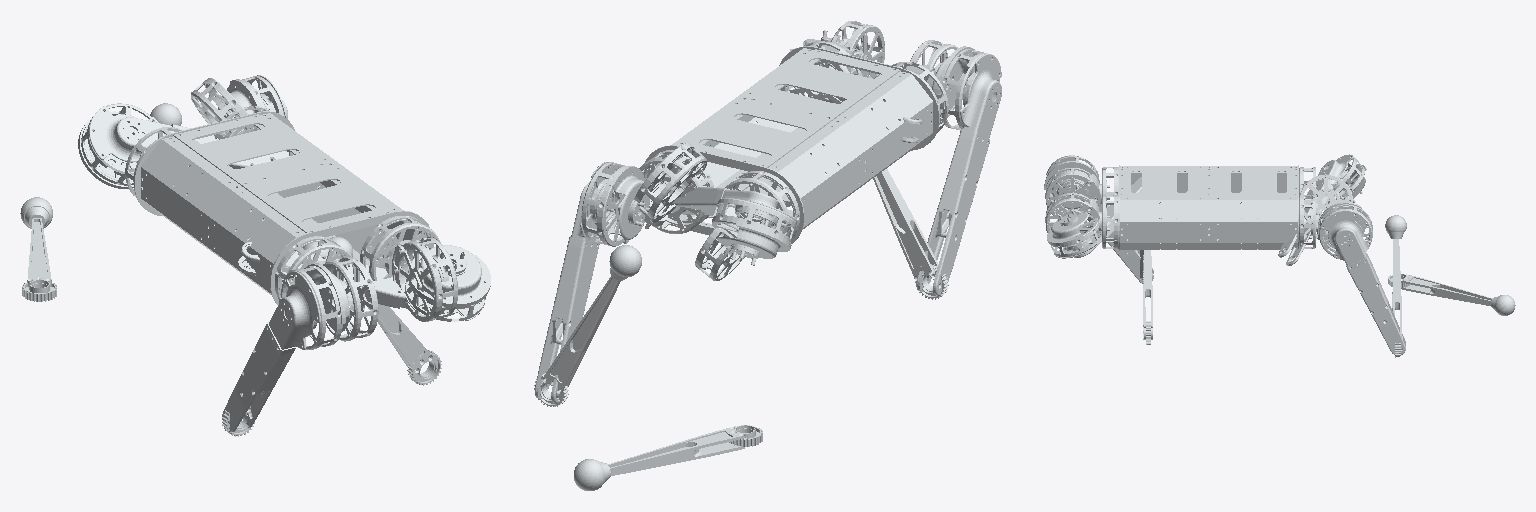
The robot description file, URDF, robot "cheetah":
<robot
  name="cheetah">
  <gazebo>
    <plugin name="gazebo_ros_control" filename="libgazebo_ros_control.so">
      <robotNamespace>/cheetah</robotNamespace>
	  <robotSimType>gazebo_ros_control/DefaultRobotHWSim</robotSimType>
    </plugin>
  </gazebo>

  <gazebo reference="BODY">
    <gravity>true</gravity>
    <sensor name="imu_sensor" type="imu">
      <always_on>true</always_on>
      <update_rate>100</update_rate>
      <visualize>true</visualize>
      <topic>__default_topic__</topic>
      <plugin filename="libgazebo_ros_imu_sensor.so" name="imu_plugin">
        <topicName>imu</topicName>
        <bodyName>imu_link</bodyName>
        <updateRateHZ>10.0</updateRateHZ>
        <gaussianNoise>0.0</gaussianNoise>
        <xyzOffset>0 0 0</xyzOffset>
        <rpyOffset>0 0 0</rpyOffset>
        <frameName>imu_link</frameName>
      </plugin>
      <pose>0 0 0 0 0 0</pose>
    </sensor>
  </gazebo>

  <!-- add transmission -->
  <transmission name="LF_tran1">
    <type>transmission_interface/SimpleTransmission</type>
    <joint name="LF_JOINT1">
      <hardwareInterface>EffortJointInterface</hardwareInterface>
    </joint>
    <actuator name="LF_motor1">
      <hardwareInterface>EffortJointInterface</hardwareInterface>
      <mechanicalReduction>1</mechanicalReduction>
    </actuator>
  </transmission>
  <transmission name="LF_tran2">
    <type>transmission_interface/SimpleTransmission</type>
    <joint name="LF_JOINT2">
      <hardwareInterface>EffortJointInterface</hardwareInterface>
    </joint>
    <actuator name="LF_motor2">
      <hardwareInterface>EffortJointInterface</hardwareInterface>
      <mechanicalReduction>1</mechanicalReduction>
    </actuator>
  </transmission>
  <transmission name="LF_tran3">
    <type>transmission_interface/SimpleTransmission</type>
    <joint name="LF_JOINT3">
      <hardwareInterface>EffortJointInterface</hardwareInterface>
    </joint>
    <actuator name="LF_motor3">
      <hardwareInterface>EffortJointInterface</hardwareInterface>
      <mechanicalReduction>1</mechanicalReduction>
    </actuator>
  </transmission>
  <transmission name="RF_tran1">
    <type>transmission_interface/SimpleTransmission</type>
    <joint name="RF_JOINT1">
      <hardwareInterface>EffortJointInterface</hardwareInterface>
    </joint>
    <actuator name="RF_motor1">
      <hardwareInterface>EffortJointInterface</hardwareInterface>
      <mechanicalReduction>1</mechanicalReduction>
    </actuator>
  </transmission>
  <transmission name="RF_tran2">
    <type>transmission_interface/SimpleTransmission</type>
    <joint name="RF_JOINT2">
      <hardwareInterface>EffortJointInterface</hardwareInterface>
    </joint>
    <actuator name="RF_motor2">
      <hardwareInterface>EffortJointInterface</hardwareInterface>
      <mechanicalReduction>1</mechanicalReduction>
    </actuator>
  </transmission>
  <transmission name="RF_tran3">
    <type>transmission_interface/SimpleTransmission</type>
    <joint name="RF_JOINT3">
      <hardwareInterface>EffortJointInterface</hardwareInterface>
    </joint>
    <actuator name="RF_motor3">
      <hardwareInterface>EffortJointInterface</hardwareInterface>
      <mechanicalReduction>1</mechanicalReduction>
    </actuator>
  </transmission>
  <transmission name="LB_tran1">
    <type>transmission_interface/SimpleTransmission</type>
    <joint name="LB_JOINT1">
      <hardwareInterface>EffortJointInterface</hardwareInterface>
    </joint>
    <actuator name="LB_motor1">
      <hardwareInterface>EffortJointInterface</hardwareInterface>
      <mechanicalReduction>1</mechanicalReduction>
    </actuator>
  </transmission>
  <transmission name="LB_tran2">
    <type>transmission_interface/SimpleTransmission</type>
    <joint name="LB_JOINT2">
      <hardwareInterface>EffortJointInterface</hardwareInterface>
    </joint>
    <actuator name="LB_motor2">
      <hardwareInterface>EffortJointInterface</hardwareInterface>
      <mechanicalReduction>1</mechanicalReduction>
    </actuator>
  </transmission>
  <transmission name="LB_tran3">
    <type>transmission_interface/SimpleTransmission</type>
    <joint name="LB_JOINT3">
      <hardwareInterface>EffortJointInterface</hardwareInterface>
    </joint>
    <actuator name="LB_motor3">
      <hardwareInterface>EffortJointInterface</hardwareInterface>
      <mechanicalReduction>1</mechanicalReduction>
    </actuator>
  </transmission>
  <transmission name="RB_tran1">
    <type>transmission_interface/SimpleTransmission</type>
    <joint name="RB_JOINT1">
      <hardwareInterface>EffortJointInterface</hardwareInterface>
    </joint>
    <actuator name="RB_motor1">
      <hardwareInterface>EffortJointInterface</hardwareInterface>
      <mechanicalReduction>1</mechanicalReduction>
    </actuator>
  </transmission>
  <transmission name="RB_tran2">
    <type>transmission_interface/SimpleTransmission</type>
    <joint name="RB_JOINT2">
      <hardwareInterface>EffortJointInterface</hardwareInterface>
    </joint>
    <actuator name="RB_motor2">
      <hardwareInterface>EffortJointInterface</hardwareInterface>
      <mechanicalReduction>1</mechanicalReduction>
    </actuator>
  </transmission>
  <transmission name="RB_tran3">
    <type>transmission_interface/SimpleTransmission</type>
    <joint name="RB_JOINT3">
      <hardwareInterface>EffortJointInterface</hardwareInterface>
    </joint>
    <actuator name="RB_motor3">
      <hardwareInterface>EffortJointInterface</hardwareInterface>
      <mechanicalReduction>1</mechanicalReduction>
    </actuator>
  </transmission>


  <!-- Set link color -->
  <gazebo reference="BODY"> 
	<material>Gazebo/Orange</material>
  </gazebo>

  <!-- fix body with the world -->
  <!-- link name="world"/ -->
  <!-- joint name="fixed" type="fixed" -->
    <!-- parent link="world"/ -->
	<!-- child link="BODY"/ -->
  <!-- /joint -->


  <link
    name="BODY">
    <inertial>
      <origin
        xyz="0.113593903662276 -0.21706648647554 0.0725525782796028"
        rpy="0 0 0" />
      <mass
        value="1.31844704893266" />
      <inertia
        ixx="0.0176138845473112"
        ixy="1.32278411694406E-06"
        ixz="-5.48867968021378E-08"
        iyy="0.00541232504527596"
        iyz="1.48504478644983E-07"
        izz="0.0216123068810961" />
    </inertial>
    <visual>
      <origin
        xyz="0 0 0"
        rpy="0 0 0" />
      <geometry>
        <mesh
          filename="package://cheetah_description/meshes/BODY.STL" />
      </geometry>
      <material
        name="">
        <color
          rgba="0.898039215686275 0.917647058823529 0.929411764705882 1" />
      </material>
    </visual>
    <collision>
      <origin
        xyz="0 0 0"
        rpy="0 0 0" />
      <geometry>
        <mesh
          filename="package://cheetah_description/meshes/BODY.STL" />
      </geometry>
    </collision>
  </link>
  <link
    name="LF1">
    <inertial>
      <origin
        xyz="-0.00356028712794883 -0.00217495542641513 0.0533371336391992"
        rpy="0 0 0" />
      <mass
        value="0.12874452405232" />
      <inertia
        ixx="7.54178206100528E-05"
        ixy="-3.17300014948878E-06"
        ixz="2.10628877219479E-06"
        iyy="7.9279259142516E-05"
        iyz="1.48482617363543E-06"
        izz="7.43038486907753E-06" />
    </inertial>
    <visual>
      <origin
        xyz="0 0 0"
        rpy="0 0 0" />
      <geometry>
        <mesh
          filename="package://cheetah_description/meshes/LF1.STL" />
      </geometry>
      <material
        name="">
        <color
          rgba="0.898039215686275 0.917647058823529 0.929411764705882 1" />
      </material>
    </visual>
    <collision>
      <origin
        xyz="0 0 0"
        rpy="0 0 0" />
      <geometry>
        <mesh
          filename="package://cheetah_description/meshes/LF1.STL" />
      </geometry>
    </collision>
  </link>
  <joint
    name="LF_JOINT1"
    type="continuous">
    <origin
      xyz="0.173599224631532 -0.399354557389219 0.0725529089199334"
      rpy="1.5707963267949 0.511092050822873 -3.43375535468868E-17" />
    <parent
      link="BODY" />
    <child
      link="LF1" />
    <axis
      xyz="0 0 1" />
	<dynamics
	  friction="0.001" />
  </joint>
  <link
    name="LF2">
    <inertial>
      <origin
        xyz="-0.0474435815037099 -0.0113664649099384 0.0257671435187357"
        rpy="0 0 0" />
      <mass
        value="0.323696832719431" />
      <inertia
        ixx="0.000279146456453759"
        ixy="-0.000417139675857478"
        ixz="0.000305968543038374"
        iyy="0.0016275350403163"
        iyz="9.65659599027155E-05"
        izz="0.00159115336884766" />
    </inertial>
    <visual>
      <origin
        xyz="0 0 0"
        rpy="0 0 0" />
      <geometry>
        <mesh
          filename="package://cheetah_description/meshes/LF2.STL" />
      </geometry>
      <material
        name="">
        <color
          rgba="0.898039215686275 0.917647058823529 0.929411764705882 1" />
      </material>
    </visual>
    <collision>
      <origin
        xyz="0 0 0"
        rpy="0 0 0" />
      <geometry>
        <mesh
          filename="package://cheetah_description/meshes/LF2.STL" />
      </geometry>
    </collision>
  </link>
  <joint
    name="LF_JOINT2"
    type="continuous">
    <origin
      xyz="0.0239889006854609 0.0138500051937306 0.0707119290859076"
      rpy="1.5707963267949 -0.368671500214442 2.09439511787625" />
    <parent
      link="LF1" />
    <child
      link="LF2" />
    <axis
      xyz="0 0 0.99999999999998" />
	<dynamics
	  friction="0.001" />
  </joint>
  <link
    name="LF3">
    <inertial>
      <origin
        xyz="-0.127788265270613 -0.084239074728452 0.00126936250587434"
        rpy="0 0 0" />
      <mass
        value="0.114240540212022" />
      <inertia
        ixx="0.0142610539008411"
        ixy="-0.0216328338393764"
        ixz="9.81796741797441E-04"
        iyy="0.0328161817304789"
        iyz="6.47218969946877E-04"
        izz="0.0470766478340095" />
    </inertial>
    <visual>
      <origin
        xyz="0 0 0"
        rpy="0 0 0" />
      <geometry>
        <mesh
          filename="package://cheetah_description/meshes/LF3.STL" />
      </geometry>
      <material
        name="">
        <color
          rgba="0.898039215686275 0.917647058823529 0.929411764705882 1" />
      </material>
    </visual>
    <collision>
      <origin
        xyz="0 0 0"
        rpy="0 0 0" />
      <geometry>
        <mesh
          filename="package://cheetah_description/meshes/LF3.STL" />
      </geometry>
    </collision>
  </link>
  <joint
    name="LF_JOINT3"
    type="continuous">
    <origin
      xyz="-0.231822995878655 -0.0621135670258962 0.0433804774370614"
      rpy="-2.01086507658697E-07 5.47983968079473E-15 -1.93946782700934" />
    <parent
      link="LF2" />
    <child
      link="LF3" />
    <axis
      xyz="0 0 1" />
	<dynamics
	  friction="0.001" />
  </joint>
  <link
    name="RF1">
    <inertial>
      <origin
        xyz="-0.00356028729085346 -0.00217495629764326 0.0533371334801993"
        rpy="0 0 0" />
      <mass
        value="0.128744523661006" />
      <inertia
        ixx="7.54178194302585E-05"
        ixy="-3.17300035849866E-06"
        ixz="2.10628767188094E-06"
        iyy="7.92792605435836E-05"
        iyz="1.48482763237274E-06"
        izz="7.43038659891306E-06" />
    </inertial>
    <visual>
      <origin
        xyz="0 0 0"
        rpy="0 0 0" />
      <geometry>
        <mesh
          filename="package://cheetah_description/meshes/RF1.STL" />
      </geometry>
      <material
        name="">
        <color
          rgba="0.898039215686275 0.917647058823529 0.929411764705882 1" />
      </material>
    </visual>
    <collision>
      <origin
        xyz="0 0 0"
        rpy="0 0 0" />
      <geometry>
        <mesh
          filename="package://cheetah_description/meshes/RF1.STL" />
      </geometry>
    </collision>
  </link>
  <joint
    name="RF_JOINT1"
    type="continuous">
    <origin
      xyz="0.053599224631532 -0.399354557389219 0.0725529089199333"
      rpy="-1.5707963267949 -0.523598601027881 3.14159265358979" />
    <parent
      link="BODY" />
    <child
      link="RF1" />
    <axis
      xyz="0 0 1" />
	<dynamics
	  friction="0.001" />
  </joint>
  <link
    name="RF2">
    <inertial>
      <origin
        xyz="-0.0522840104115751 -0.0125260995514515 0.027860305734437"
        rpy="0 0 0" />
      <mass
        value="0.293729852808938" />
      <inertia
        ixx="0.000260979254978939"
        ixy="-0.000399330587666675"
        ixz="0.000273825093346943"
        iyy="0.00153930249317469"
        iyz="8.88649351862152E-05"
        izz="0.0015125542107132" />
    </inertial>
    <visual>
      <origin
        xyz="0 0 0"
        rpy="0 0 0" />
      <geometry>
        <mesh
          filename="package://cheetah_description/meshes/RF2.STL" />
      </geometry>
      <material
        name="">
        <color
          rgba="0.898039215686275 0.917647058823529 0.929411764705882 1" />
      </material>
    </visual>
    <collision>
      <origin
        xyz="0 0 0"
        rpy="0 0 0" />
      <geometry>
        <mesh
          filename="package://cheetah_description/meshes/RF2.STL" />
      </geometry>
    </collision>
  </link>
  <joint
    name="RF_JOINT2"
    type="continuous">
    <origin
      xyz="0.0239889012320922 0.0138500042482511 0.070711929086322"
      rpy="-1.57079632679487 -0.863675085440379 -1.04719753259462" />
    <parent
      link="RF1" />
    <child
      link="RF2" />
    <axis
      xyz="0 0 0.99999999999992" />
	<dynamics
	  friction="0.001" />
  </joint>
  <link
    name="RF3">
    <inertial>
      <origin
        xyz="0.133209831194905 -0.0753738304493778 0.00121607159211032"
        rpy="0 0 0" />
      <mass
        value="0.114240539524017" />
      <inertia
        ixx="0.0114548942425245"
        ixy="0.0202000406565315"
        ixz="-6.59004020738382E-04"
        iyy="0.0356220997961491"
        iyz="3.73699652095502E-04"
        izz="0.0470767500679258" />
    </inertial>
    <visual>
      <origin
        xyz="0 0 0"
        rpy="0 0 0" />
      <geometry>
        <mesh
          filename="package://cheetah_description/meshes/RF3.STL" />
      </geometry>
      <material
        name="">
        <color
          rgba="0.898039215686275 0.917647058823529 0.929411764705882 1" />
      </material>
    </visual>
    <collision>
      <origin
        xyz="0 0 0"
        rpy="0 0 0" />
      <geometry>
        <mesh
          filename="package://cheetah_description/meshes/RF3.STL" />
      </geometry>
    </collision>
  </link>
  <joint
    name="RF_JOINT3"
    type="continuous">
    <origin
      xyz="-0.231823008442479 -0.0621135692653797 0.0433804071002776"
      rpy="1.58490470087489E-07 -4.8795080220757E-16 -0.707121241354518" />
    <parent
      link="RF2" />
    <child
      link="RF3" />
    <axis
      xyz="0 0 0.999999999999876" />
	<dynamics
	  friction="0.001" />
  </joint>
  <link
    name="LB1">
    <inertial>
      <origin
        xyz="-0.00356028601275479 -0.00217495602205527 0.0185587177088275"
        rpy="0 0 0" />
      <mass
        value="0.128744523484197" />
      <inertia
        ixx="7.54178142885515E-05"
        ixy="-3.1729967774514E-06"
        ixz="2.10628654669623E-06"
        iyy="7.92792604551504E-05"
        iyz="1.48483080512161E-06"
        izz="7.43038317528222E-06" />
    </inertial>
    <visual>
      <origin
        xyz="0 0 0"
        rpy="0 0 0" />
      <geometry>
        <mesh
          filename="package://cheetah_description/meshes/LB1.STL" />
      </geometry>
      <material
        name="">
        <color
          rgba="0.898039215686275 0.917647058823529 0.929411764705882 1" />
      </material>
    </visual>
    <collision>
      <origin
        xyz="0 0 0"
        rpy="0 0 0" />
      <geometry>
        <mesh
          filename="package://cheetah_description/meshes/LB1.STL" />
      </geometry>
    </collision>
  </link>
  <joint
    name="LB_JOINT1"
    type="continuous">
    <origin
      xyz="0.173599224631526 0 0.0725529089199335"
      rpy="-1.57079632679489 -0.550782542641248 3.7606585259785E-17" />
    <parent
      link="BODY" />
    <child
      link="LB1" />
    <axis
      xyz="0 0 -1" />
	<dynamics
	  friction="0.001" />
  </joint>
  <link
    name="LB2">
    <inertial>
      <origin
        xyz="0.0257671128855008 -0.0487200631973879 -0.00253746920973342"
        rpy="0 0 0" />
      <mass
        value="0.323696605007919" />
      <inertia
        ixx="0.00159115114168457"
        ixy="0.000318435725096246"
        ixz="3.92379224048623E-05"
        iyy="0.000174480345787558"
        iyz="-0.000148055424313775"
        izz="0.00173219827134064" />
    </inertial>
    <visual>
      <origin
        xyz="0 0 0"
        rpy="0 0 0" />
      <geometry>
        <mesh
          filename="package://cheetah_description/meshes/LB2.STL" />
      </geometry>
      <material
        name="">
        <color
          rgba="0.898039215686275 0.917647058823529 0.929411764705882 1" />
      </material>
    </visual>
    <collision>
      <origin
        xyz="0 0 0"
        rpy="0 0 0" />
      <geometry>
        <mesh
          filename="package://cheetah_description/meshes/LB2.STL" />
      </geometry>
    </collision>
  </link>
  <joint
    name="LB_JOINT2"
    type="continuous">
    <origin
      xyz="0.0239889055485236 0.0138499967714876 0.0359335135116864"
      rpy="-2.80449724784631 6.30450004185909E-15 0.523598766712586" />
    <parent
      link="LB1" />
    <child
      link="LB2" />
    <axis
      xyz="0.999999999999992 0 0" />
	<dynamics
	  friction="0.001" />
  </joint>
  <link
    name="LB3">
    <inertial>
      <origin
        xyz="-0.137259769893214 -0.0677187262851579 0.0012160706821924"
        rpy="0 0 0" />
      <mass
        value="0.114240539936642" />
      <inertia
        ixx="9.18073045158711E-02"
        ixy="-0.0186523391150409"
        ixz="6.7971742889103E-04"
        iyy="0.0378962763010066"
        iyz="3.34553918552012E-04"
        izz="0.0470767627800977" />
    </inertial>
    <visual>
      <origin
        xyz="0 0 0"
        rpy="0 0 0" />
      <geometry>
        <mesh
          filename="package://cheetah_description/meshes/LB3.STL" />
      </geometry>
      <material
        name="">
        <color
          rgba="0.898039215686275 0.917647058823529 0.929411764705882 1" />
      </material>
    </visual>
    <collision>
      <origin
        xyz="0 0 0"
        rpy="0 0 0" />
      <geometry>
        <mesh
          filename="package://cheetah_description/meshes/LB3.STL" />
      </geometry>
    </collision>
  </link>
  <joint
    name="LB_JOINT3"
    type="continuous">
    <origin
      xyz="0.0433804661279571 -0.239257600341479 -0.0188626161448396"
      rpy="-1.57079645284584 1.2337009210514 -1.57079632679494" />
    <parent
      link="LB2" />
    <child
      link="LB3" />
    <axis
      xyz="0 0 1" />
	<dynamics
	  friction="0.001" />
  </joint>
  <link
    name="RB1">
    <inertial>
      <origin
        xyz="-0.00356028780538256 -0.00217495210431383 0.0185587184412751"
        rpy="0 0 0" />
      <mass
        value="0.128744524870709" />
      <inertia
        ixx="7.54178205091088E-05"
        ixy="-3.17299798098093E-06"
        ixz="2.10629200548915E-06"
        iyy="7.92792585327807E-05"
        iyz="1.48482224580922E-06"
        izz="7.43038083164913E-06" />
    </inertial>
    <visual>
      <origin
        xyz="0 0 0"
        rpy="0 0 0" />
      <geometry>
        <mesh
          filename="package://cheetah_description/meshes/RB1.STL" />
      </geometry>
      <material
        name="">
        <color
          rgba="0.898039215686275 0.917647058823529 0.929411764705882 1" />
      </material>
    </visual>
    <collision>
      <origin
        xyz="0 0 0"
        rpy="0 0 0" />
      <geometry>
        <mesh
          filename="package://cheetah_description/meshes/RB1.STL" />
      </geometry>
    </collision>
  </link>
  <joint
    name="RB_JOINT1"
    type="continuous">
    <origin
      xyz="0.0535992246315264 0 0.0725529089199335"
      rpy="1.57079632679489 0.483622535977452 -3.14159265358979" />
    <parent
      link="BODY" />
    <child
      link="RB1" />
    <axis
      xyz="0 0 -1" />
	<dynamics
	  friction="0.001" />
  </joint>
  <link
    name="RB2">
    <inertial>
      <origin
        xyz="-0.0474436393591411 -0.0113664368013873 0.0257671872348984"
        rpy="0 0 0" />
      <mass
        value="0.323696976849496" />
      <inertia
        ixx="0.000279146387182187"
        ixy="-0.000417139040246701"
        ixz="0.000305970741286676"
        iyy="0.00162753794502063"
        iyz="9.65662523830575E-05"
        izz="0.00159115523706251" />
    </inertial>
    <visual>
      <origin
        xyz="0 0 0"
        rpy="0 0 0" />
      <geometry>
        <mesh
          filename="package://cheetah_description/meshes/RB2.STL" />
      </geometry>
      <material
        name="">
        <color
          rgba="0.898039215686275 0.917647058823529 0.929411764705882 1" />
      </material>
    </visual>
    <collision>
      <origin
        xyz="0 0 0"
        rpy="0 0 0" />
      <geometry>
        <mesh
          filename="package://cheetah_description/meshes/RB2.STL" />
      </geometry>
    </collision>
  </link>
  <joint
    name="RB_JOINT2"
    type="continuous">
    <origin
      xyz="0.0239889051808841 0.0138499974087561 0.0359335135244585"
      rpy="1.57079632679491 0.692488919582274 2.09439507785289" />
    <parent
      link="RB1" />
    <child
      link="RB2" />
    <axis
      xyz="0 0 0.999999999999996" />
	<dynamics
	  friction="0.001" />
  </joint>
  <link
    name="RB3">
    <inertial>
      <origin
        xyz="-0.0744165999732416 -0.133746904962195 0.00126936244095777"
        rpy="0 0 0" />
      <mass
        value="0.114240538818722" />
      <inertia
        ixx="0.0359484773911837"
        ixy="-0.0200011925582525"
        ixz="5.71738797052665E-04"
        iyy="0.0111287478468468"
        iyz="1.02758829617282E-03"
        izz="0.0470766374381183" />
    </inertial>
    <visual>
      <origin
        xyz="0 0 0"
        rpy="0 0 0" />
      <geometry>
        <mesh
          filename="package://cheetah_description/meshes/RB3.STL" />
      </geometry>
      <material
        name="">
        <color
          rgba="0.898039215686275 0.917647058823529 0.929411764705882 1" />
      </material>
    </visual>
    <collision>
      <origin
        xyz="0 0 0"
        rpy="0 0 0" />
      <geometry>
        <mesh
          filename="package://cheetah_description/meshes/RB3.STL" />
      </geometry>
    </collision>
  </link>
  <joint
    name="RB_JOINT3"
    type="continuous">
    <origin
      xyz="-0.231823006662634 -0.0621135667231729 0.0433804202483734"
      rpy="-2.18941904487291E-15 -8.34781210545811E-08 0.692488919581947" />
    <parent
      link="RB2" />
    <child
      link="RB3" />
    <axis
      xyz="0 0 1" />
	<dynamics
	  friction="0.001" />
  </joint>
</robot>

--- What the picture shows (computed from the rendered views, not written in the file) ---
3 views of the same robot in one strip: view 1: azimuth 30°, elevation 25°; view 2: azimuth 150°, elevation 25°; view 3: azimuth 270°, elevation 25° (orthographic).
Model cheetah with 13 links and 12 joints (12 continuous), rooted at BODY, posed all joints at 0.
Visible links, largest first — view 1: BODY, RF2, RB2, LF2, LF1, RB3, LF3, RF1, LB2, LB1; view 2: BODY, RF2, LB2, RB2, RB3, LB3, RF3, LB1, RB1, LF1, RF1; view 3: BODY, LB2, LF2, RB2, RB3, RF2, RF1, LB3, LF1, LB1, LF3.
Boxes of the visible links, <box> form: BODY: <box>125,106,440,304</box>; RF2: <box>222,263,349,431</box>; RB2: <box>78,103,319,188</box>; LF2: <box>238,242,490,321</box>; LF1: <box>392,237,457,321</box>; RB3: <box>20,197,56,301</box>; LF3: <box>330,237,441,385</box>; RF1: <box>321,257,378,341</box>; LB2: <box>218,75,287,239</box>; LB1: <box>191,78,258,134</box>; BODY: <box>639,41,948,243</box>; RF2: <box>916,46,1001,295</box>; LB2: <box>535,162,649,403</box>; RB2: <box>666,184,796,265</box>; RB3: <box>574,425,762,490</box>; LB3: <box>534,245,641,406</box>; RF3: <box>873,169,948,299</box>; LB1: <box>634,143,706,228</box>; RB1: <box>695,207,761,280</box>; LF1: <box>821,21,884,78</box>; RF1: <box>907,40,957,116</box>; BODY: <box>1102,165,1315,250</box>; LB2: <box>1318,202,1405,355</box>; LF2: <box>1047,177,1141,258</box>; RB2: <box>1278,154,1366,265</box>; RB3: <box>1388,274,1515,315</box>; RF2: <box>1044,155,1153,283</box>; RF1: <box>1045,168,1109,215</box>; LB3: <box>1385,215,1406,357</box>; LF1: <box>1045,193,1109,235</box>; LB1: <box>1300,174,1352,239</box>; LF3: <box>1143,250,1152,344</box>.
Size in the robot's own frame: 0.3203 by 0.872 by 0.3219 metres.
13 mesh visuals loaded from 13 distinct referenced files (13 binary STL).